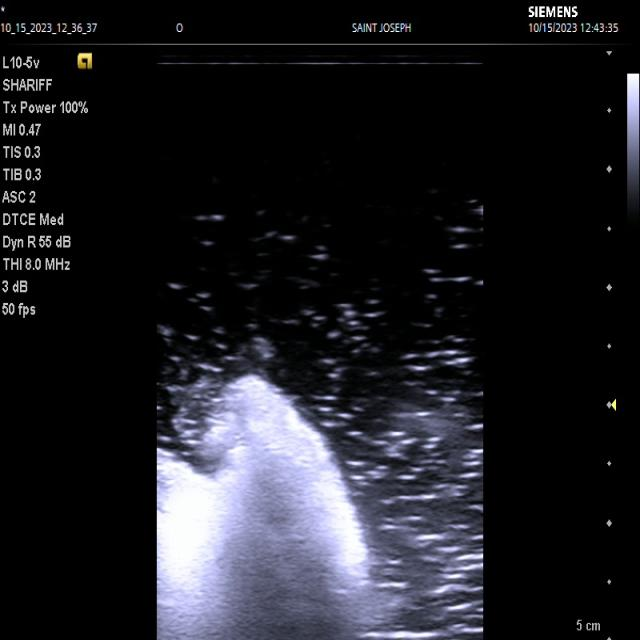tissue: (158, 375, 369, 640)
